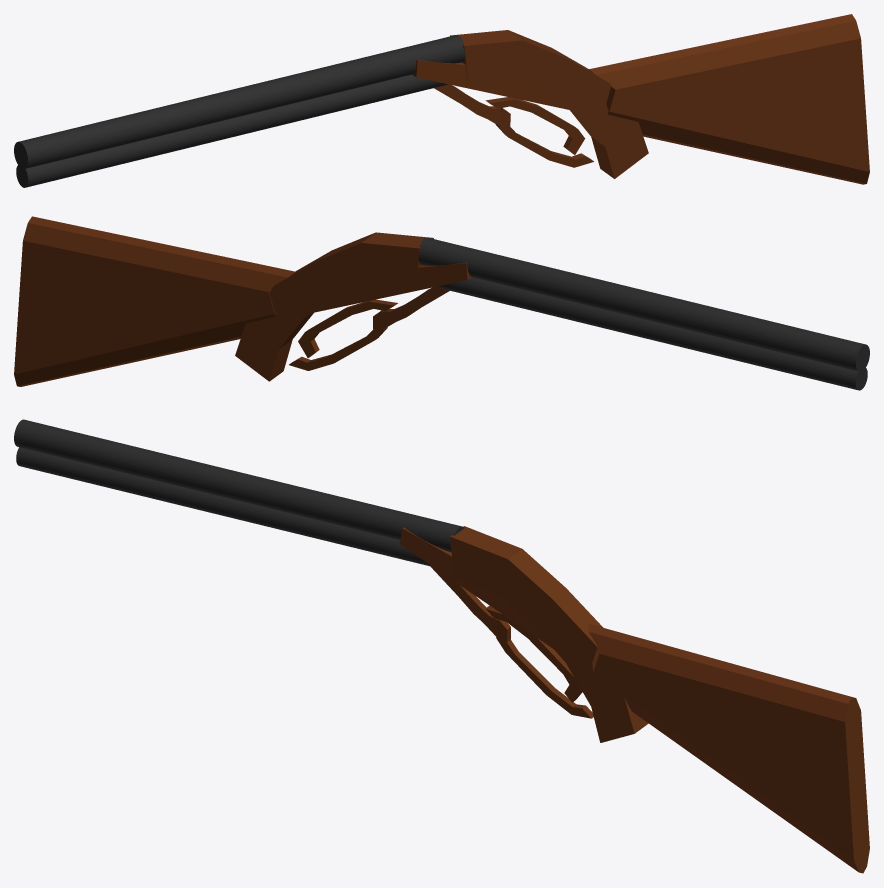
File: Rifle.fbx
3 renders of one model, top to bottom at view 1: azimuth 30°, elevation 25°; view 2: azimuth 150°, elevation 25°; view 3: azimuth 330°, elevation 25°, orthographic.
Parts seen in each view (by area): view 1: Hilt, Barrel, Cube, Barrel.001, Cube.001, Cube.003, Cube.002, Cube.004; view 2: Hilt, Barrel, Cube, Barrel.001, Cube.001, Cube.003, Cube.002, Cube.004; view 3: Hilt, Barrel, Cube, Barrel.001, Cube.001, Cube.002, Cube.003, Cube.004.
Part boxes in pixels (x1,y1,x2,y2): Hilt: (588,14,869,184); Barrel: (14,35,464,169); Cube: (450,30,648,178); Barrel.001: (16,74,448,187); Cube.001: (412,59,571,110); Cube.003: (485,97,585,154); Cube.002: (495,108,593,167); Cube.004: (434,84,501,126); Hilt: (14,216,295,386); Barrel: (418,237,869,371); Cube: (235,232,433,381); Barrel.001: (435,277,867,390); Cube.001: (312,262,471,312); Cube.003: (298,299,397,357); Cube.002: (289,310,387,370); Cube.004: (382,287,449,328); Hilt: (588,624,869,873); Barrel: (14,419,464,552); Cube: (450,526,648,742); Barrel.001: (16,447,432,566); Cube.001: (399,527,553,648); Cube.002: (496,619,593,718); Cube.003: (485,605,582,702); Cube.004: (430,566,498,636).
Bounding box in the file's own units: 661 × 185 × 22.92.
